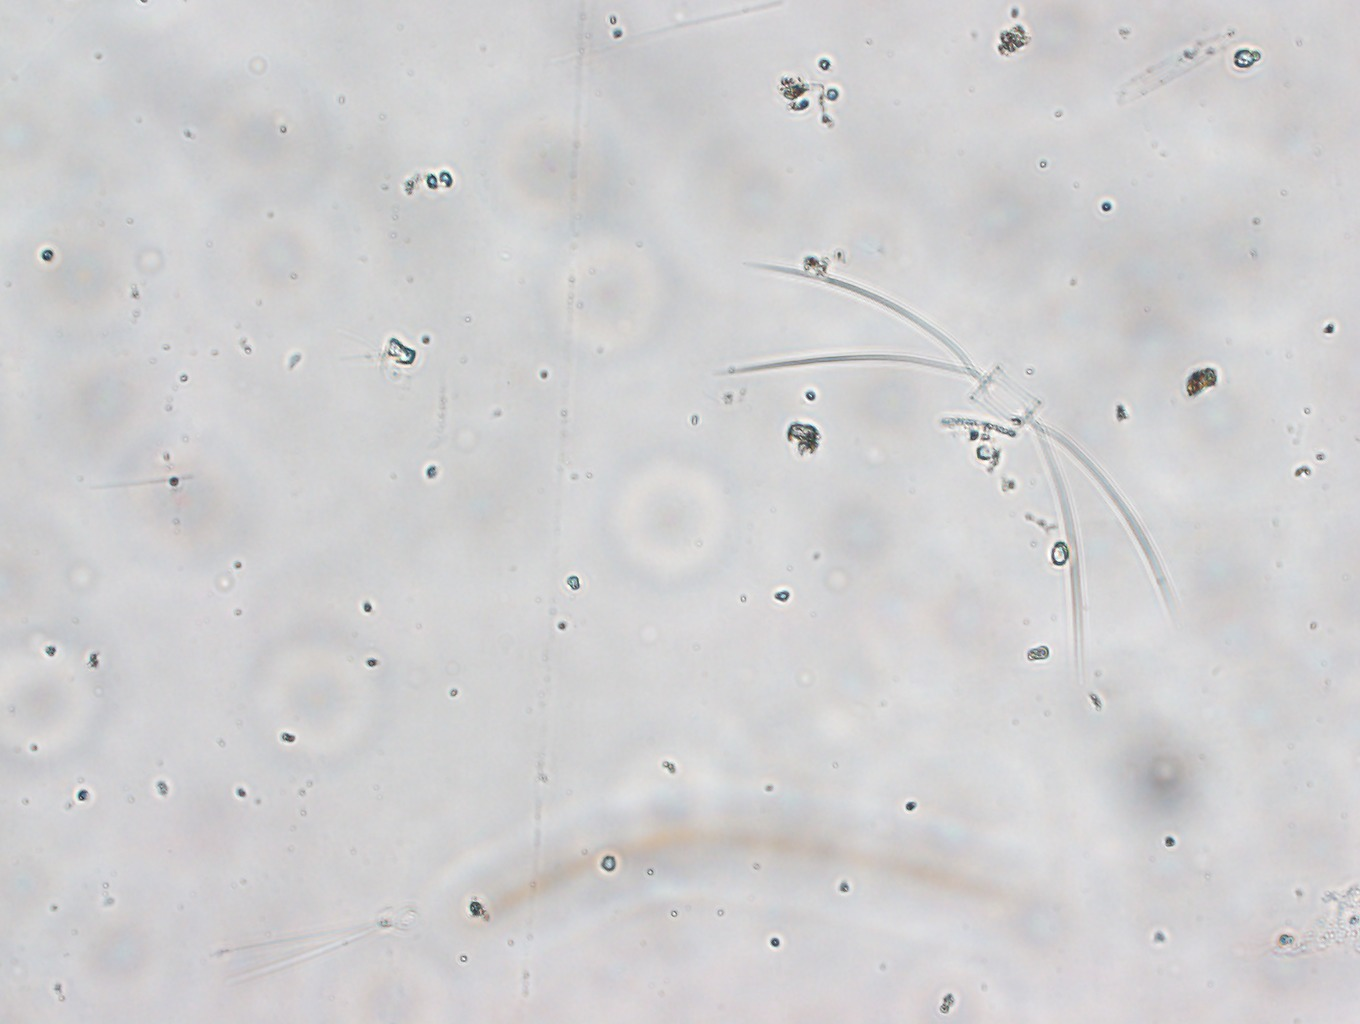chaetoceros: (728, 234, 1182, 694)
